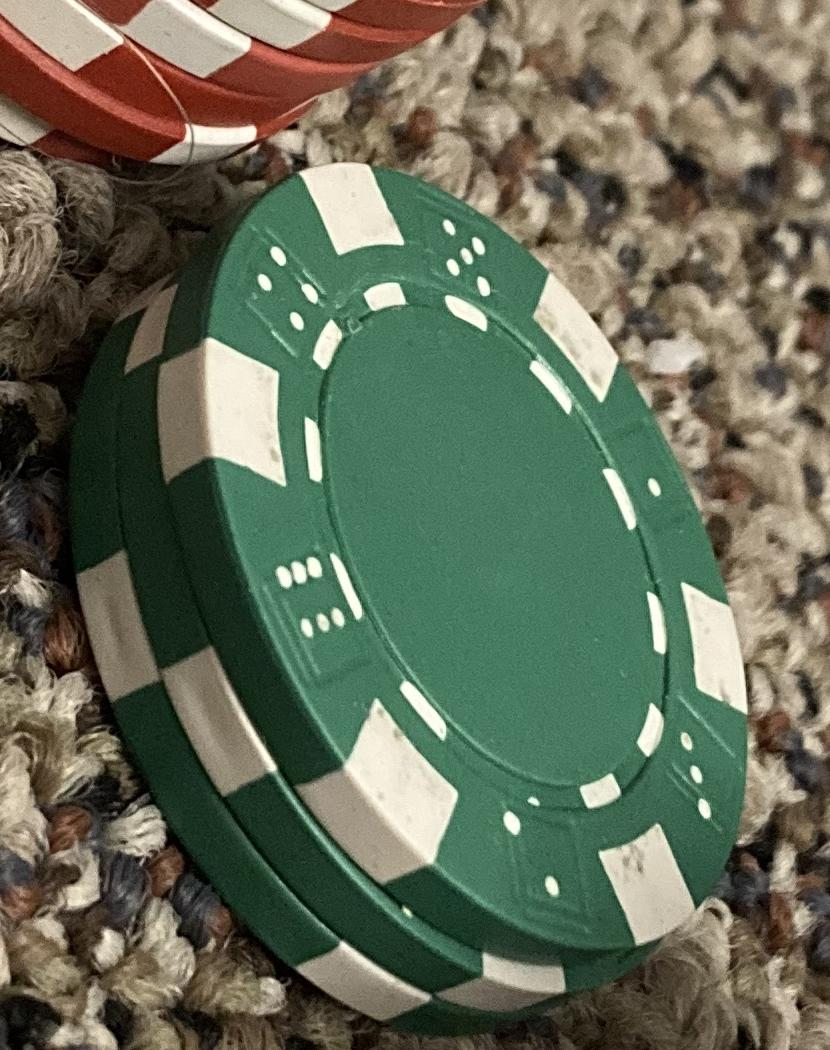Chip: (1, 1, 830, 1050)
